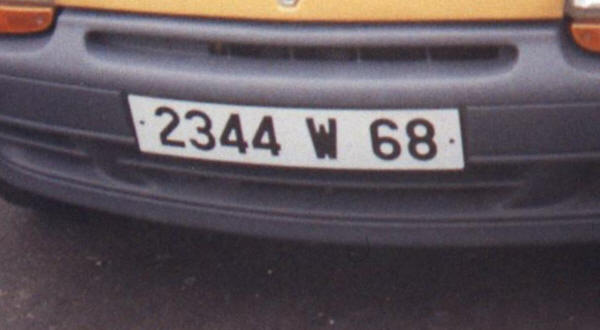license_plate: (125, 90, 467, 172)
